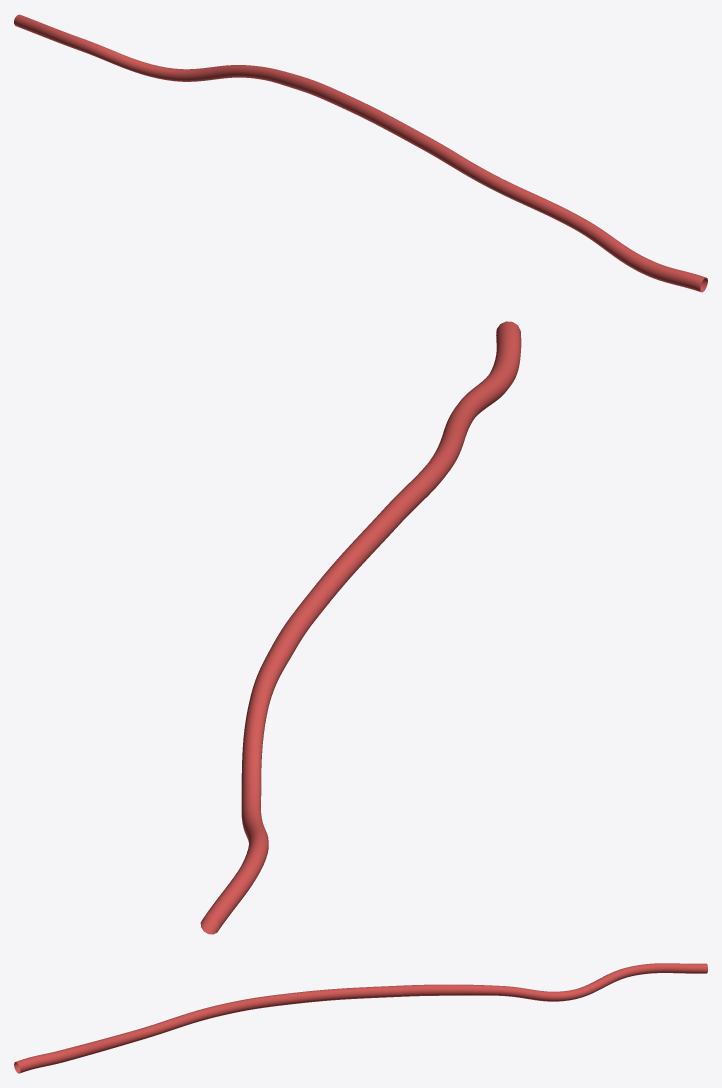
The picture shows the model from 3 angles, top to bottom: view 1: azimuth 30°, elevation 25°; view 2: azimuth 150°, elevation 25°; view 3: azimuth 270°, elevation 25°; orthographic projection. The views are drawn at different scales.
Parts seen in each view (by area): view 1: 右侧肱动脉; view 2: 右侧肱动脉; view 3: 右侧肱动脉.
Boxes of the visible parts, x1=… form: 右侧肱动脉: x1=14, y1=14, x2=707, y2=292; 右侧肱动脉: x1=200, y1=321, x2=521, y2=934; 右侧肱动脉: x1=14, y1=963, x2=707, y2=1073.
Size of the model in its own units: 0.1384 by 0.0269 by 0.4072.
